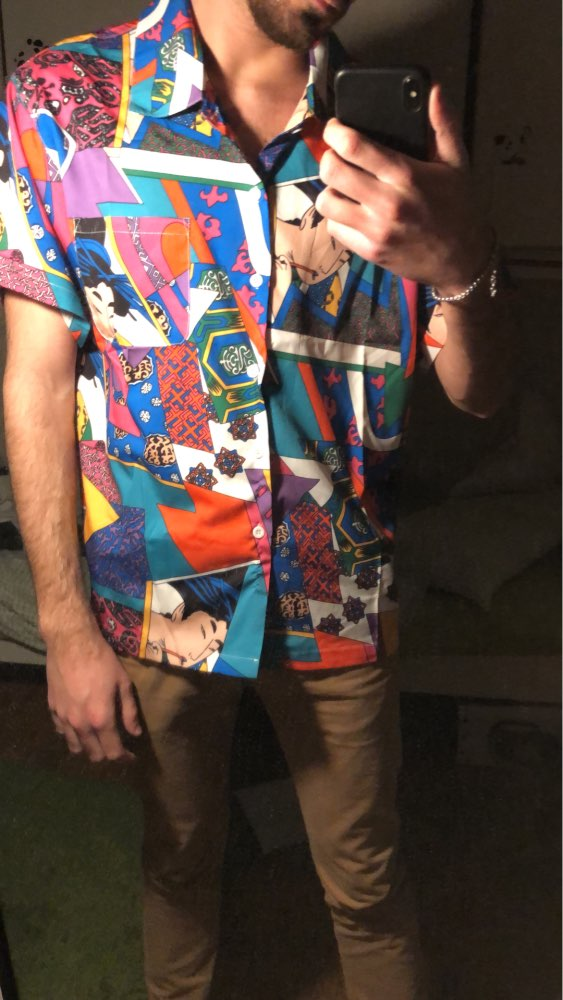shirts: (2, 6, 466, 684)
